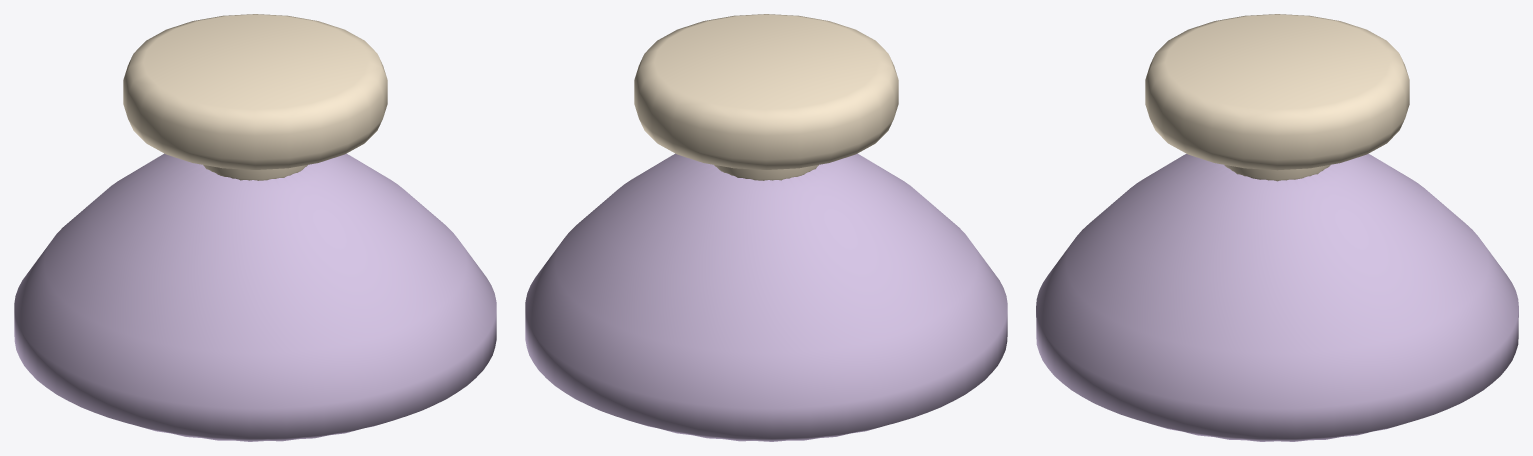
Rendered from ceiling_light_c.glb.
3 views of the same model, side by side, from view 1: azimuth 30°, elevation 25°; view 2: azimuth 150°, elevation 25°; view 3: azimuth 270°, elevation 25° (orthographic).
Visible parts, largest first — view 1: body; view 2: body; view 3: body.
Boxes of the visible parts, box(x1,y1,x2,y2) form: body: box(14, 14, 496, 441); body: box(525, 14, 1007, 441); body: box(1036, 14, 1518, 441).
Size of the model in its own units: 0.2921 by 0.2 by 0.2921.
